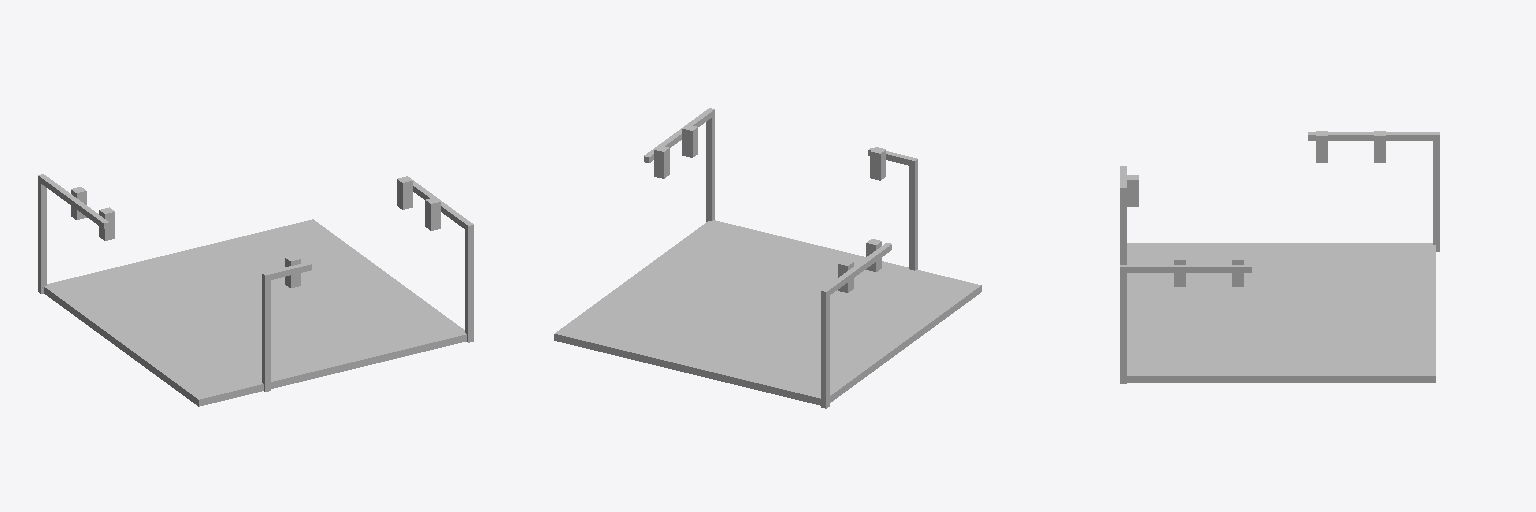
The model's file is inter2120.obj.
3 views of the same model, side by side, from view 1: azimuth 30°, elevation 25°; view 2: azimuth 150°, elevation 25°; view 3: azimuth 270°, elevation 25° (orthographic).
Visible parts, largest first — view 1: 2120_intersection_Plane.007; view 2: 2120_intersection_Plane.007; view 3: 2120_intersection_Plane.007.
Part boxes in pixels (left/top/right/bottom): 2120_intersection_Plane.007: left=38, top=174, right=473, bottom=406; 2120_intersection_Plane.007: left=554, top=108, right=981, bottom=408; 2120_intersection_Plane.007: left=1120, top=131, right=1439, bottom=383.
Size of the model in its own units: 4.08 by 1.71 by 4.08.